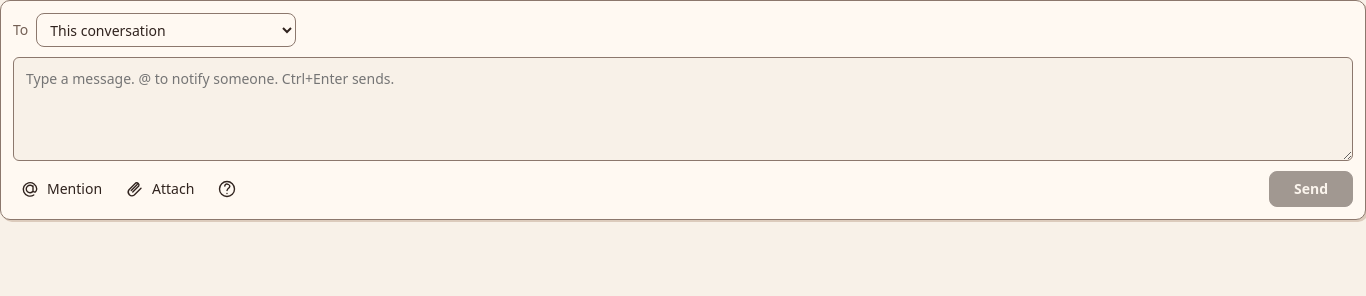
Scenario: Composer @autocomplete › lists handles from /v1/me/people on '@ar', arrows move, Enter inserts '@handle '
The image size is (1366, 296).
Step 1. Type "@ar" into the text box with test id "composer-text" → (683, 109), box x1=13 y1=57 x2=1353 y2=161
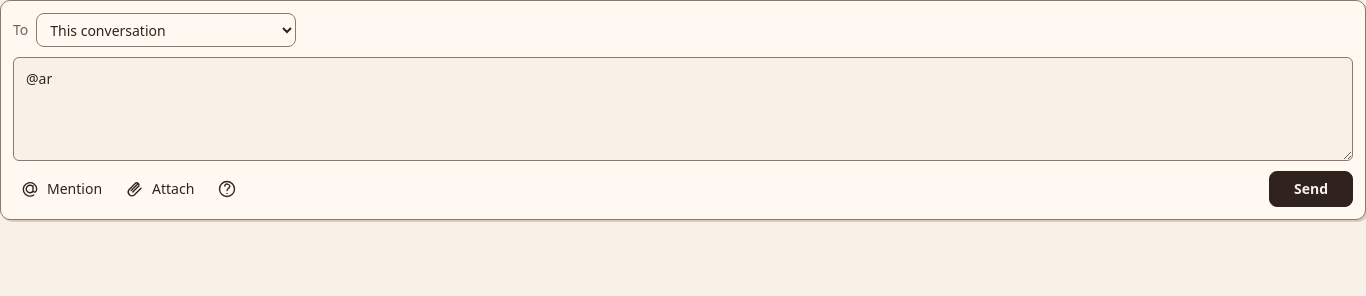
Step 2. Press r in the text box with test id "composer-text", box x1=13 y1=57 x2=1353 y2=161
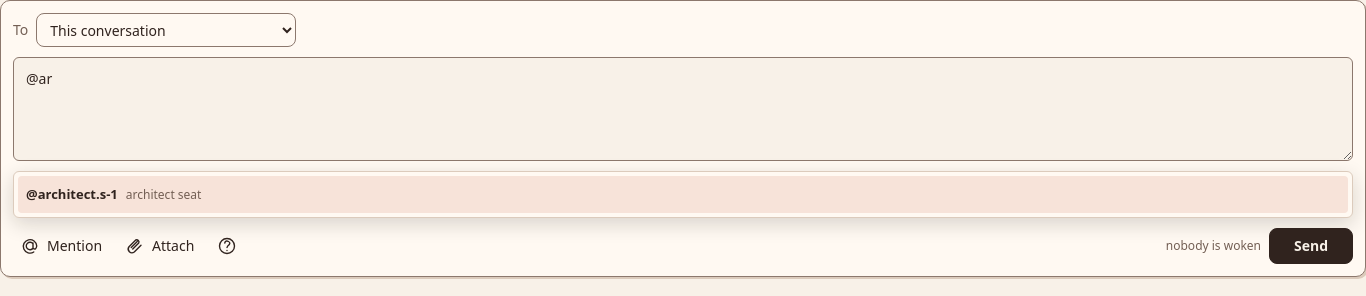
expect the list with test id "mentions-menu" is shown: met, box x1=13 y1=171 x2=1353 y2=218
expect the option "@architect.s-1 architect seat" is shown: met, box x1=18 y1=176 x2=1348 y2=213
Step 3. Press Enter in the text box with test id "composer-text", box x1=13 y1=57 x2=1353 y2=161
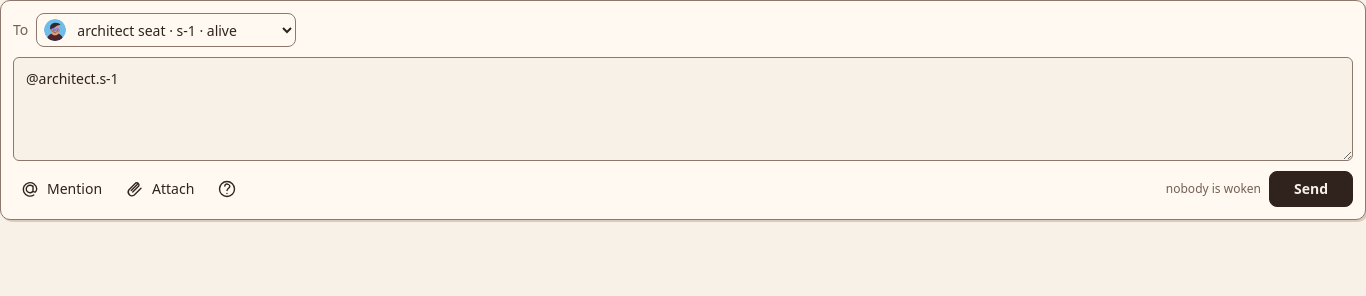
expect the text box with test id "composer-text" holds "@architect.s-1 ": met, box x1=13 y1=57 x2=1353 y2=161
